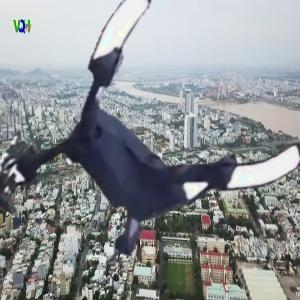drone: (28, 20, 292, 284)
